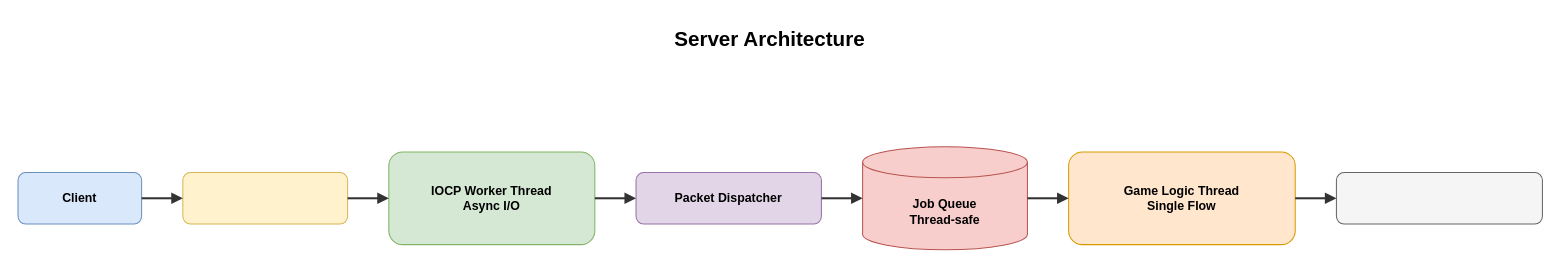
This 1560x268 diagram has some shape labels left out. Here are the shapes that lost their labels. From the top down, the centre of each, then its label:
the point at 265,197: TCP / Protobuf
the point at 1438,197: Player / Room Game State
